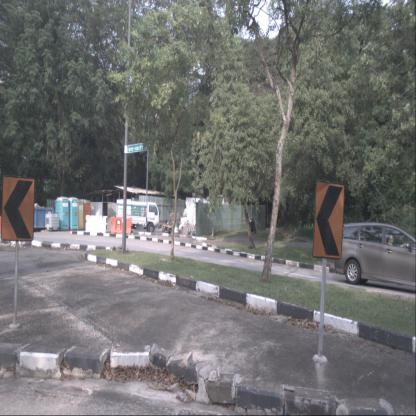barrier: (85, 215, 108, 236), (110, 217, 132, 236)
